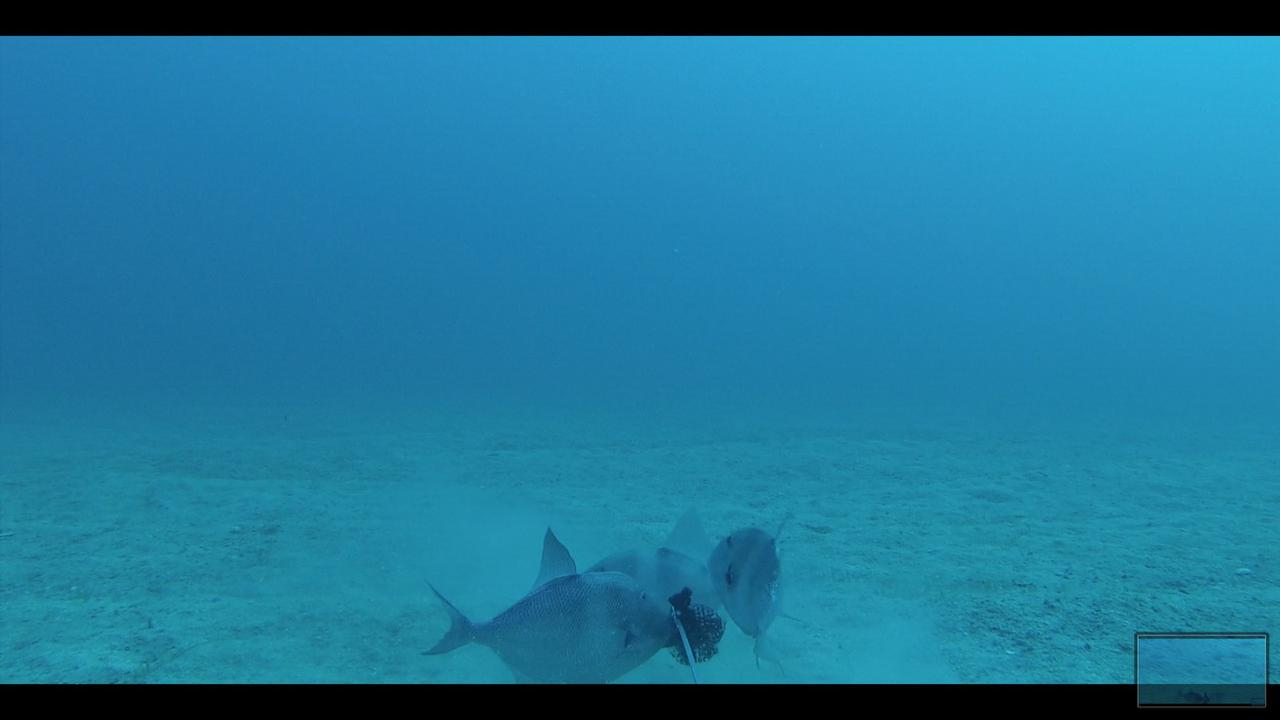balistes: (418, 524, 674, 682), (581, 507, 735, 622), (709, 510, 809, 674)
